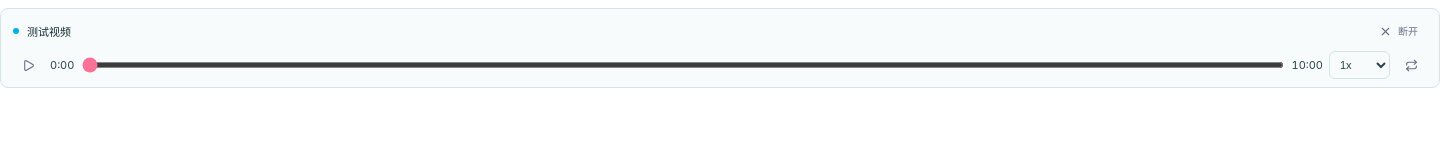
Test: enter seeks immediately with the typed time
This screenshot has width=1440, height=160.
Click the button named "修改播放时间": [62, 65] box [50, 58, 74, 72]
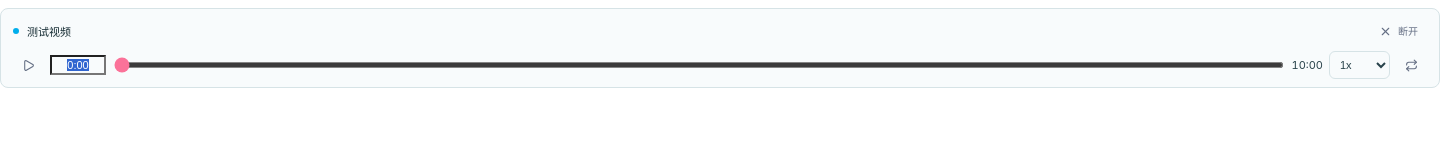
Replace the text in the field named "跳转到时间" with "1:35": [78, 65] box [50, 55, 106, 75]
Then press Enter
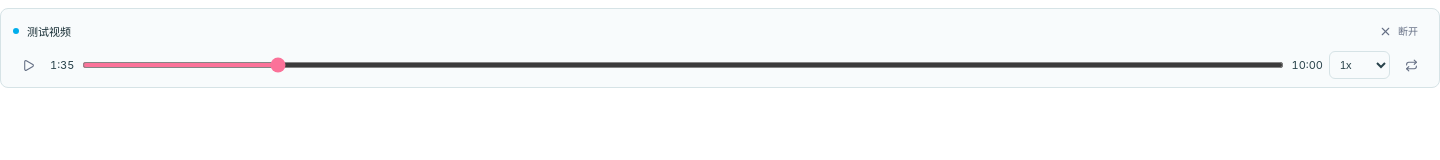
Result: the field labelled "跳转到时间" is gone
